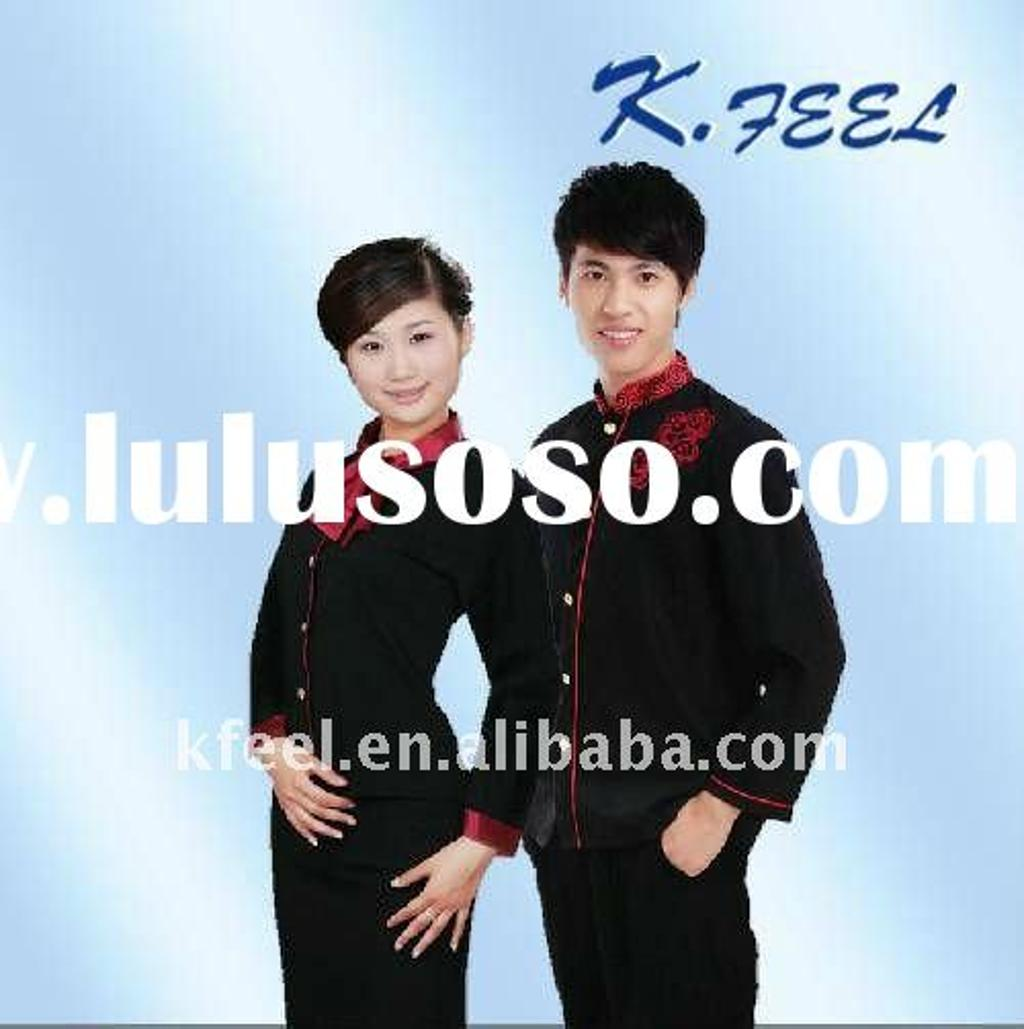face: (568, 225, 680, 370), (347, 287, 455, 418)
